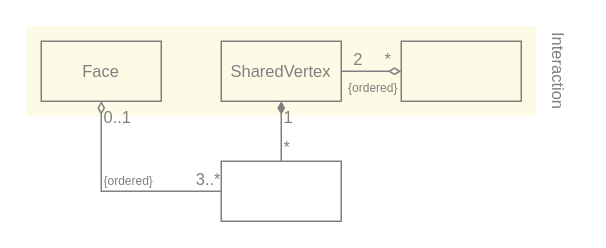
Some shapes in this 606 by 248 pixel diagram are drawn without their labels. Each missing label, with the box of its shape:
SharedEdge: (400, 40, 521, 101)
Vertex: (220, 160, 341, 221)
